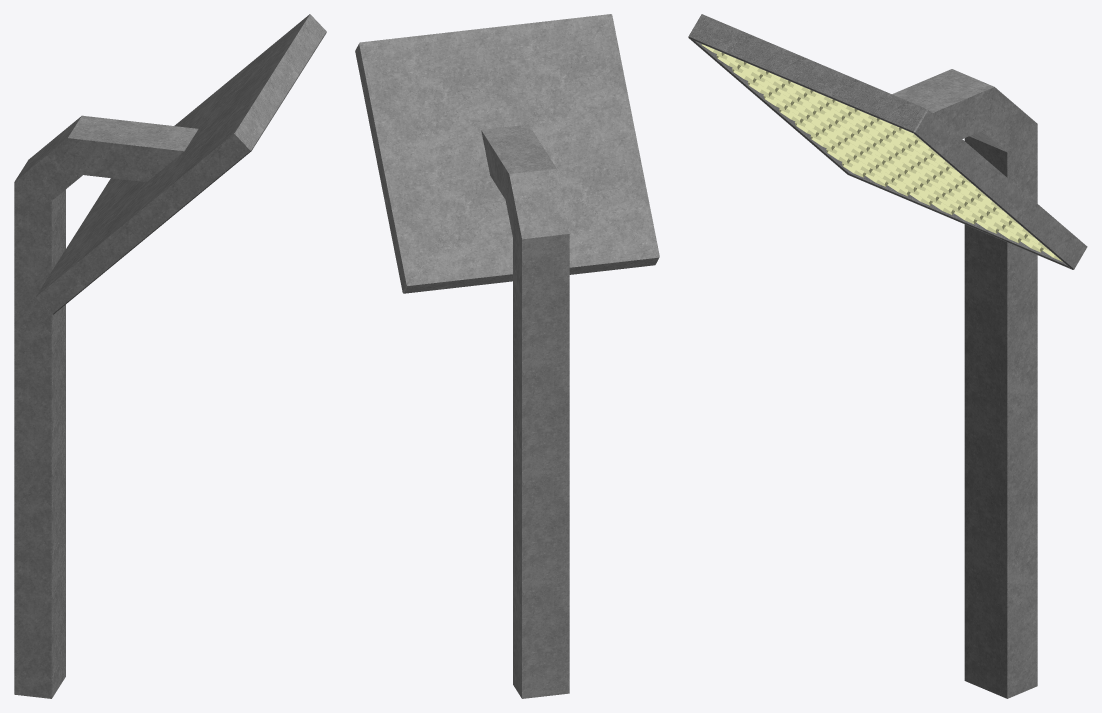
Rendered from Light.gltf.
3 renders of one model, left to right at view 1: azimuth 30°, elevation 25°; view 2: azimuth 150°, elevation 25°; view 3: azimuth 270°, elevation 25°, orthographic. The views are drawn at different scales.
Parts seen in each view (by area): view 1: Lights:1; view 2: Lights:1; view 3: Lights:1.
Part boxes in pixels (bbox=[...]): Lights:1: bbox=[14, 14, 326, 698]; Lights:1: bbox=[355, 14, 659, 698]; Lights:1: bbox=[688, 14, 1087, 698].
Bounding box in the file's own units: 3311 × 6414 × 3311.
Materials: 4 (1 with a texture image).
